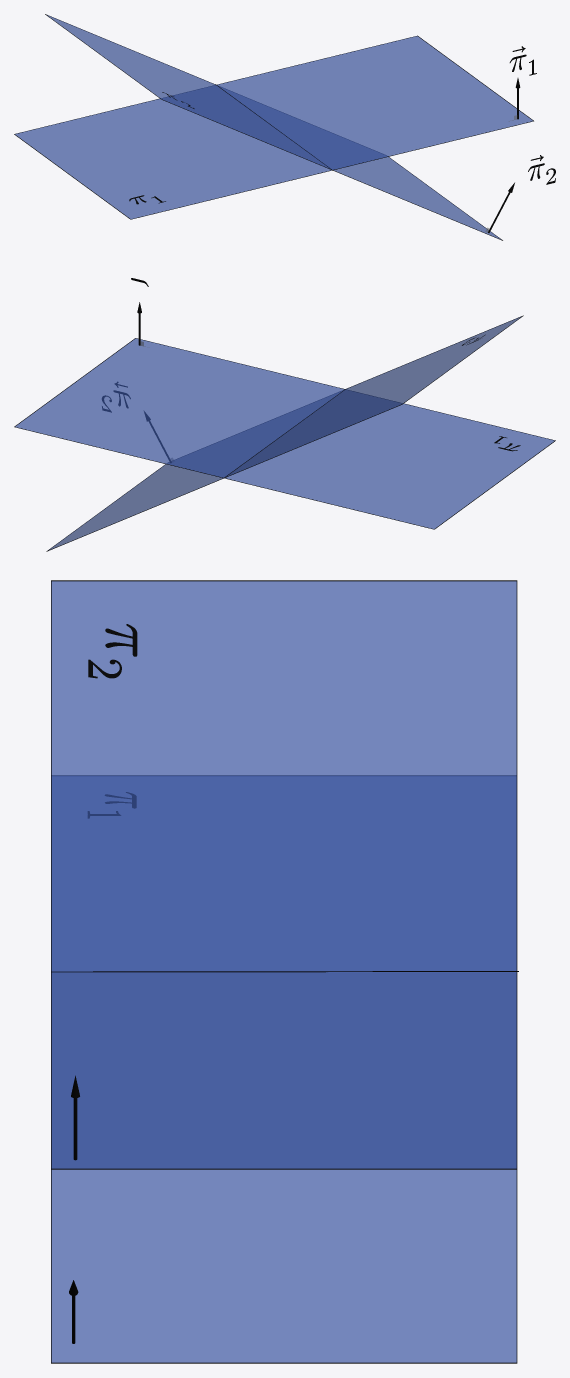
The model's file is pi_secante_pi.glb.
The picture shows the model from 3 angles, top to bottom: view 1: azimuth 30°, elevation 25°; view 2: azimuth 150°, elevation 25°; view 3: azimuth 270°, elevation 25°; orthographic projection. The views are drawn at different scales.
Visible parts, largest first — view 1: Plano, Plano.001; view 2: Plano, Plano.001; view 3: Plano.001, Plano.
Boxes of the visible parts, bbox=[...] form: Plano: bbox=[14, 35, 533, 219]; Plano.001: bbox=[45, 14, 502, 240]; Plano: bbox=[14, 338, 555, 529]; Plano.001: bbox=[46, 315, 523, 551]; Plano.001: bbox=[51, 580, 517, 1363]; Plano: bbox=[51, 775, 517, 1169].
Bounding box in the file's own units: 4.27 × 2.13 × 2.01.
